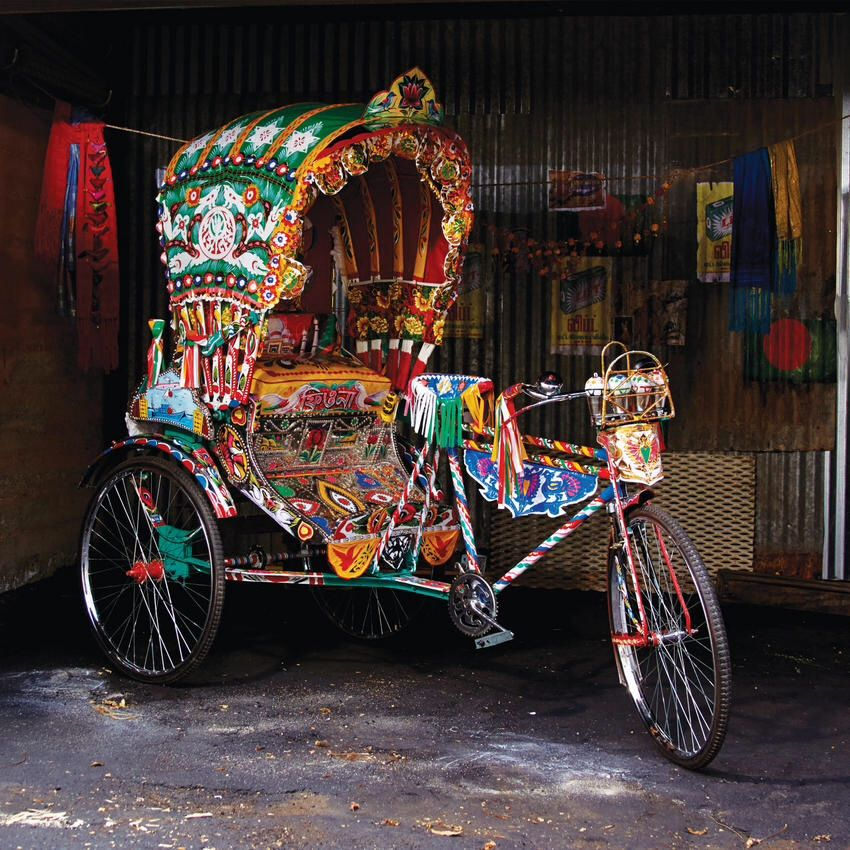Rickshaw: (89, 82, 738, 792)
